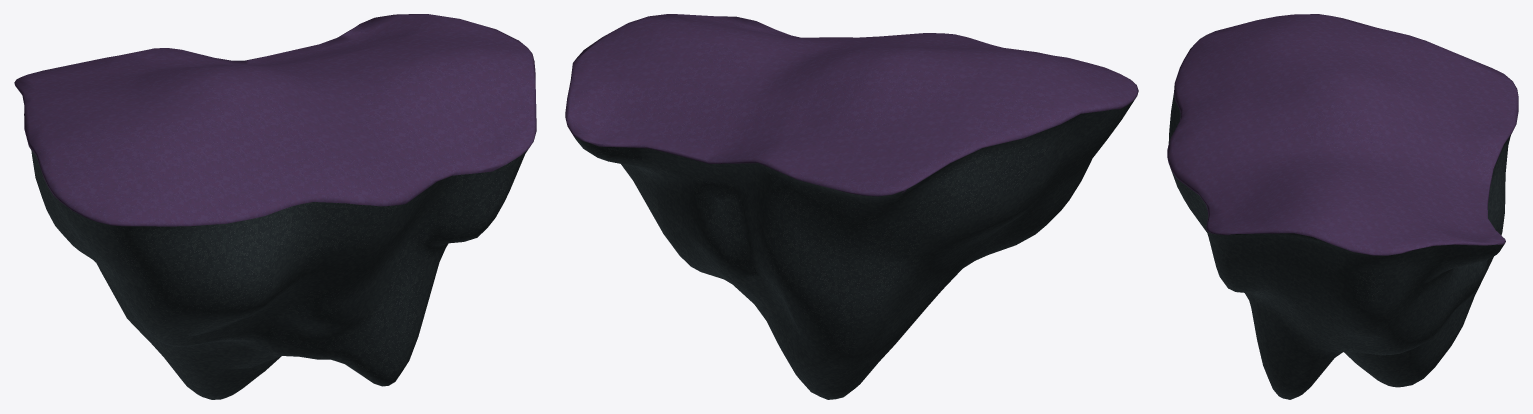
The model's file is Island2.fbx.
3 renders of one model, left to right at view 1: azimuth 30°, elevation 25°; view 2: azimuth 150°, elevation 25°; view 3: azimuth 270°, elevation 25°, orthographic. The views are drawn at different scales.
Visible parts, largest first — view 1: Island2; view 2: Island2; view 3: Island2.
Boxes of the visible parts, x1,y1,x2,y2 form: Island2: [14, 14, 536, 399]; Island2: [565, 14, 1138, 399]; Island2: [1167, 14, 1518, 399].
Size of the model in its own units: 5217 by 3345 by 3580.
